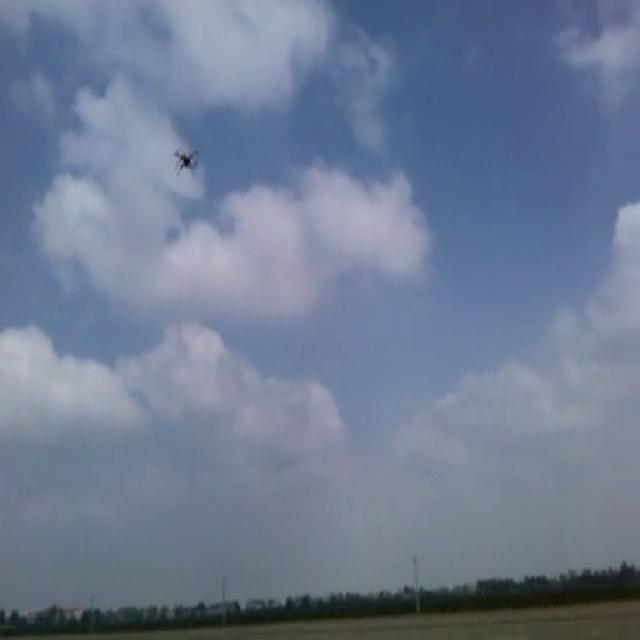drone: (170, 146, 201, 174)
